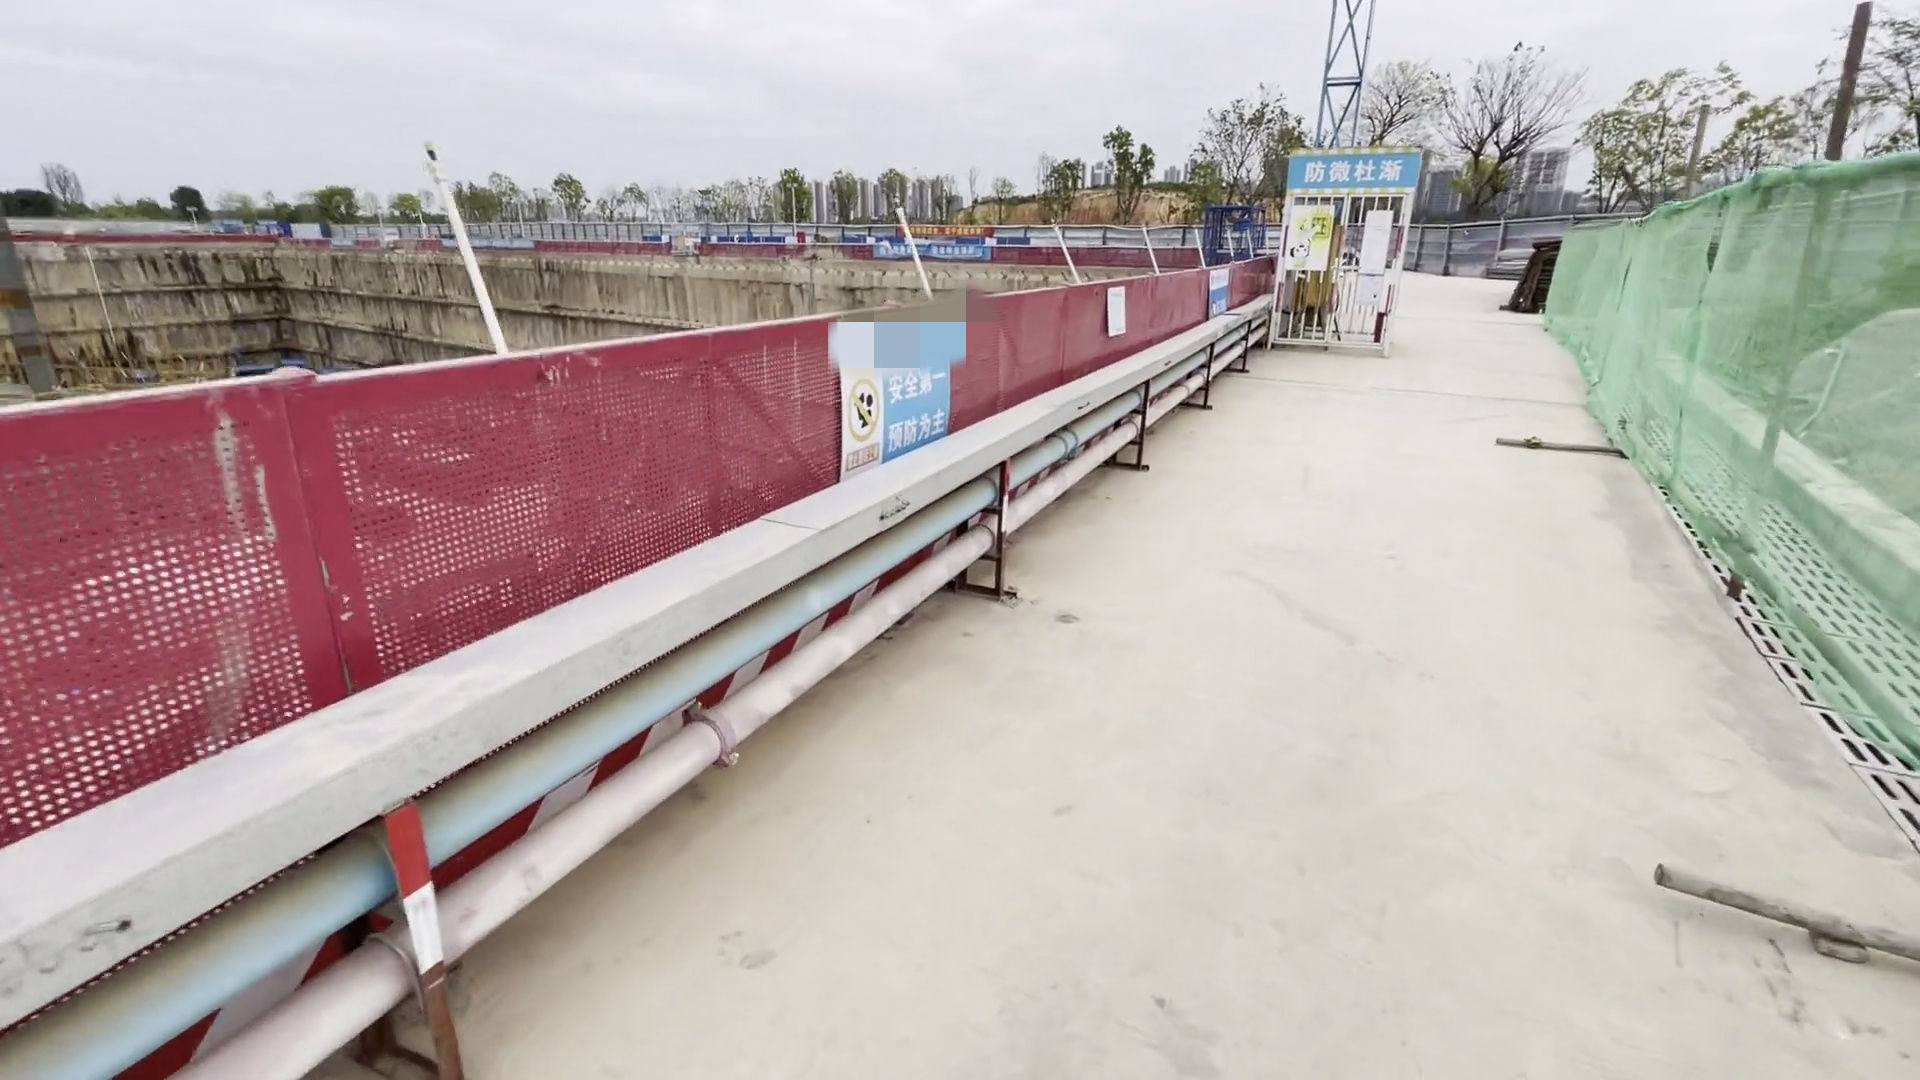fence: (1, 260, 1262, 839)
slogan: (872, 368, 978, 456), (1292, 140, 1416, 206), (905, 218, 986, 258)
